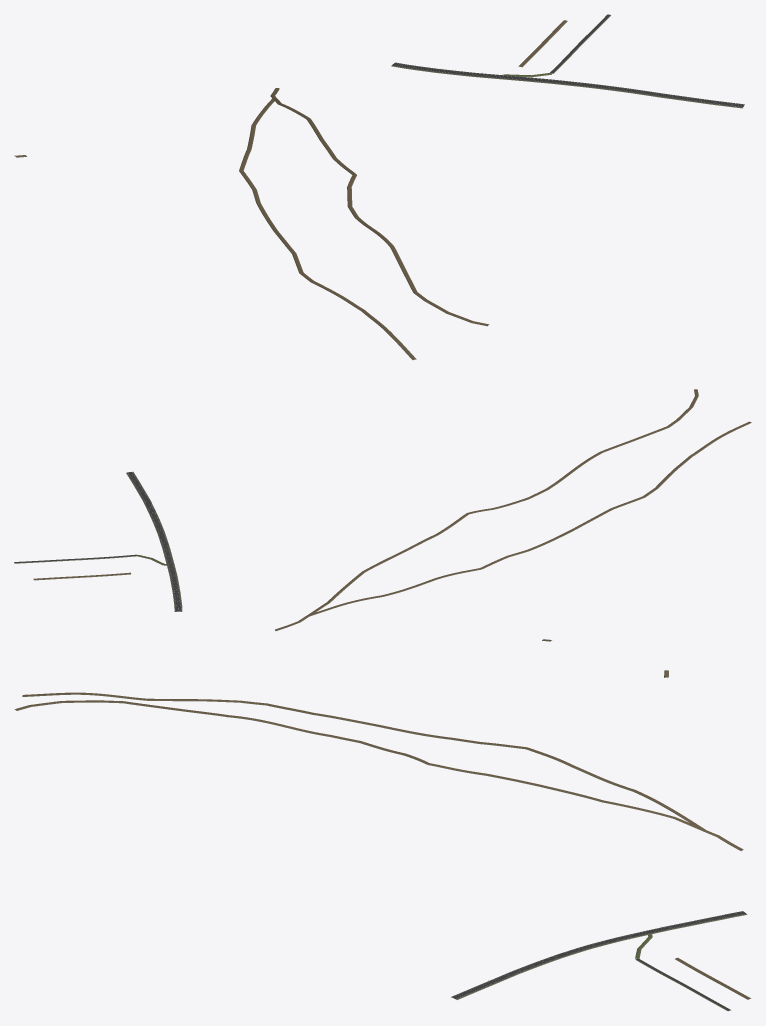
3 renders of one model, top to bottom at view 1: azimuth 30°, elevation 25°; view 2: azimuth 150°, elevation 25°; view 3: azimuth 270°, elevation 25°, orthographic. The views are drawn at different scales.
Parts seen in each view (by area): view 1: roads; view 2: roads; view 3: roads.
Boxes of the visible parts, x1,y1,x2,y2 form: roads: (14,14,744,359); roads: (14,389,751,641); roads: (14,670,750,1011).
Bounding box in the file's own units: 803 × 88.82 × 817.
